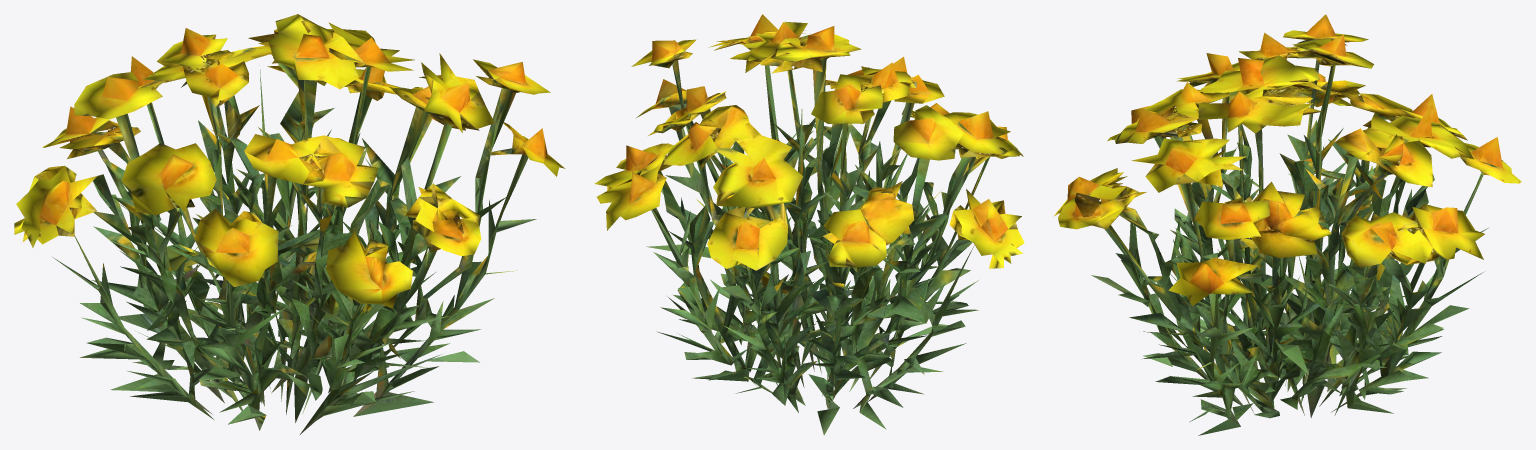
Rendered from daisy.glb.
3 renders of one model, left to right at view 1: azimuth 30°, elevation 25°; view 2: azimuth 150°, elevation 25°; view 3: azimuth 270°, elevation 25°, orthographic. The views are drawn at different scales.
Parts seen in each view (by area): view 1: lod0; view 2: lod0; view 3: lod0.
Part boxes in pixels (x1,y1,x2,y2): lod0: (14,14,565,434); lod0: (594,14,1024,435); lod0: (1053,14,1521,435).
Bounding box in the file's own units: 0.5954 × 0.4657 × 0.5593.
Materials: 1 (1 with a texture image).
